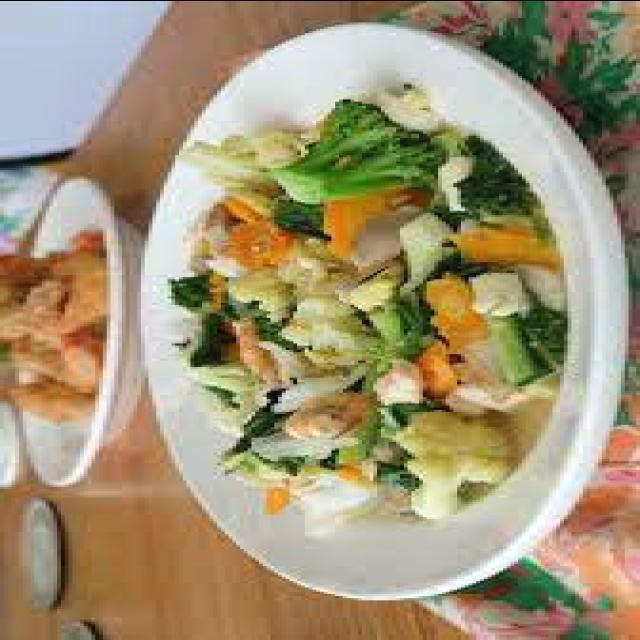capcay: (171, 96, 571, 520)
